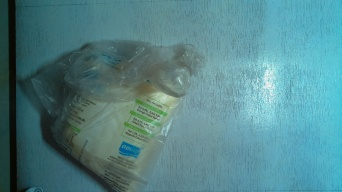m: (51, 34, 179, 192)
